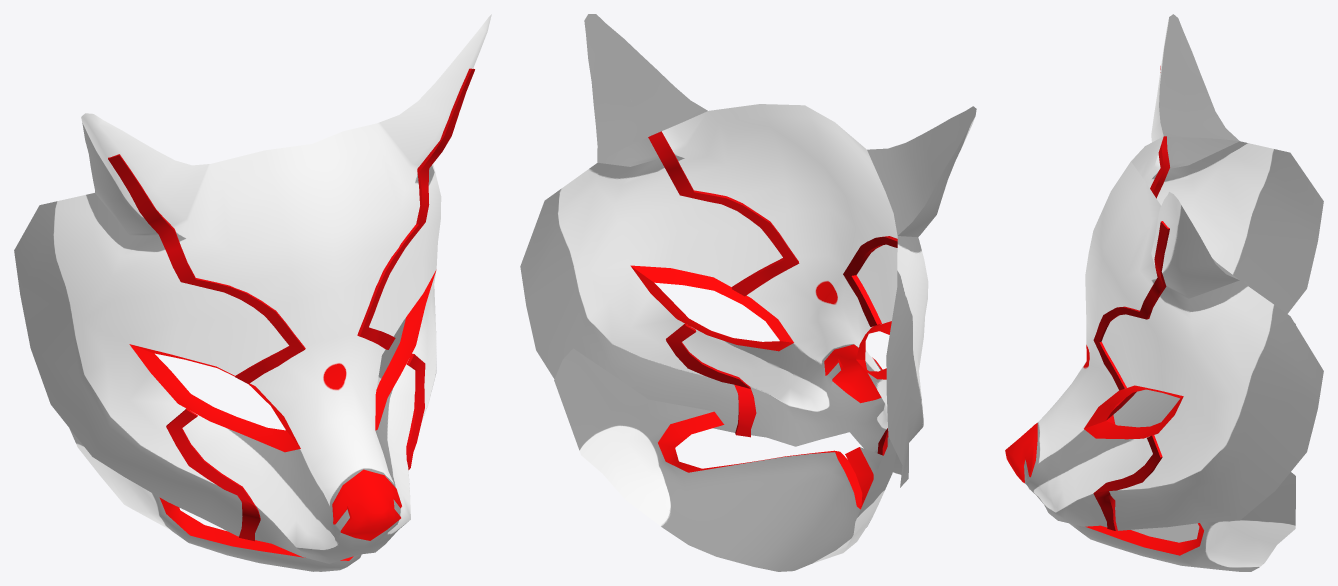
File: KitsuneMask-Pearl.glb
3 renders of one model, left to right at view 1: azimuth 30°, elevation 25°; view 2: azimuth 150°, elevation 25°; view 3: azimuth 270°, elevation 25°, orthographic. The views are drawn at different scales.
Visible parts, largest first — view 1: KitsuneMask; view 2: KitsuneMask; view 3: KitsuneMask.
Part boxes in pixels (x1,y1,x2,y2): KitsuneMask: (14, 14, 491, 571); KitsuneMask: (520, 14, 976, 571); KitsuneMask: (1005, 14, 1323, 571).
Bounding box in the file's own units: 0.2264 × 0.2682 × 0.1682.
2 materials, 1 textured.
